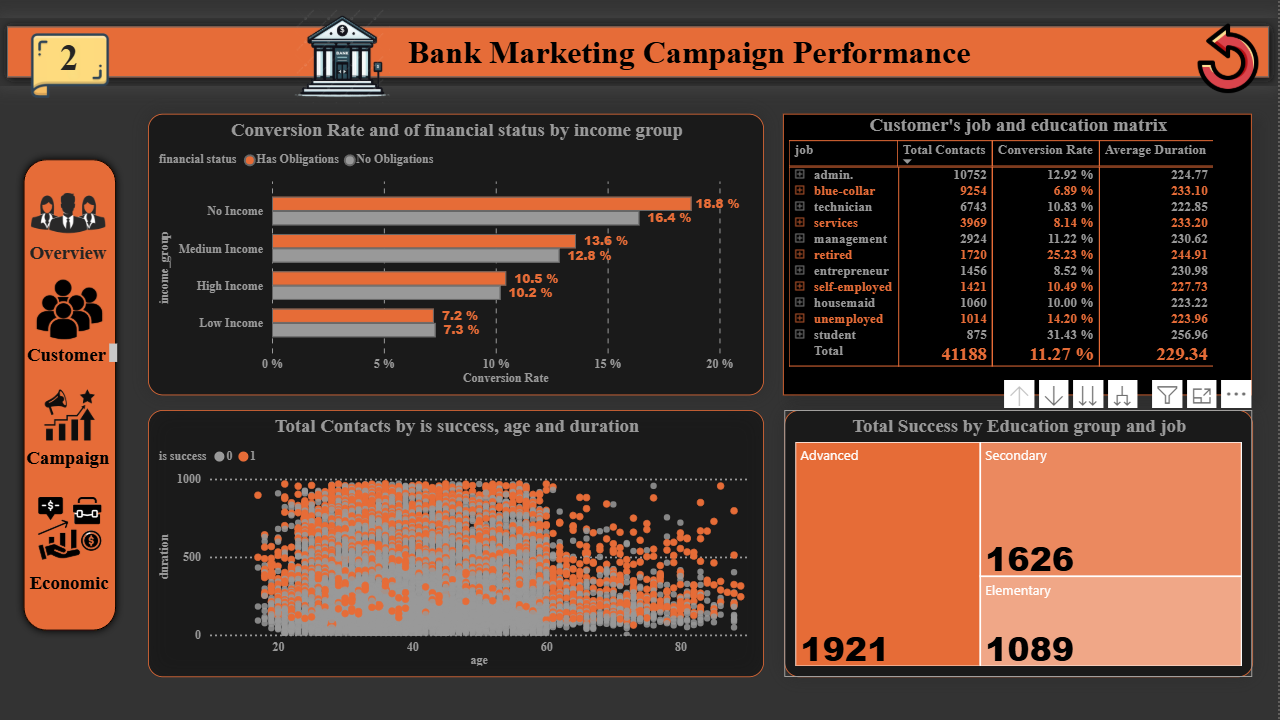

What the dashboard file says about the page in this screenshot:
{"tool":"powerbi","page":{"name":"Customer","canvas":[1280,720],"ordinal":1},"visuals":[{"type":"group","id":"g1","title":"Group 1","box":[0,0,1280,141.2],"z":0},{"type":"shape","box":[16.9,150.8,108.6,487.4],"z":0,"group":"g2"},{"type":"pivotTable","title":"Customer''s job and education matrix","fields":{"Values":["BM-Measures.Total Contacts","BM-Measures.Conversion Rate","BM-Measures.Average Duration"],"Rows":["DimCustomer.job","DimCustomer.education"]},"box":[785,113.8,468.8,281.2],"z":1000},{"type":"textbox","box":[21.4,237.2,97.1,41.4],"z":1000,"group":"g2"},{"type":"shape","box":[0,18.1,1280,68.8],"z":1500,"group":"g1"},{"type":"image","box":[0,0,143.6,141.2],"z":2000,"group":"g1"},{"type":"clusteredBarChart","title":"Conversion Rate and of financial status by income group","fields":{"Category":["DimCustomer.income_group"],"Y":["BM-Measures.Conversion Rate"],"Series":["DimCustomer.financial_status"]},"box":[150,113.8,616.2,281.2],"z":2000},{"type":"image","box":[21.7,166.5,97.7,94.1],"z":2000,"group":"g2"},{"type":"textbox","box":[35,31.4,72.4,55.5],"z":2500,"group":"g1"},{"type":"image","box":[290.8,0,106.2,109.8],"z":3000,"group":"g1"},{"type":"image","box":[7.2,265.9,127.9,85.7],"z":3000,"group":"g2"},{"type":"scatterChart","title":"Total Contacts by is success, age and duration","fields":{"X":["DimCustomer.age"],"Y":["FactBankMarketing.duration"],"Size":["BM-Measures.Total Contacts"],"Series":["FactBankMarketing.is_success"]},"box":[150,410,616.2,267.5],"z":3000},{"type":"textbox","box":[405.4,29,589.9,49.5],"z":3500,"group":"g1"},{"type":"image","box":[1179.9,19.3,100.1,79.6],"z":4000,"group":"g1"},{"type":"textbox","box":[20,338.6,104.3,30],"z":4000,"group":"g2"},{"type":"treemap","title":"Total Success by  Education group and job","fields":{"Group":["DimCustomer.edu_group","DimCustomer.job"],"Values":["BM-Measures.Total Success"]},"box":[785.7,410,468.6,267.1],"z":4000},{"type":"group","id":"g2","title":"Group 2","box":[0,150.8,143.6,487.4],"z":5000},{"type":"image","box":[0,351.6,143.6,115.8],"z":5000,"group":"g2"},{"type":"textbox","box":[15.7,441.5,107.1,35.7],"z":6000,"group":"g2"},{"type":"textbox","box":[22.9,567.2,97.1,40],"z":7000,"group":"g2"},{"type":"image","box":[33.8,490.3,76,79.6],"z":8000,"group":"g2"}]}

Visuals, with their boxes in screenshot pixels (x1, y1, x2, y2), scaled from the page's 1280x720 canvas onto the 1280x720 screenshot:
"Group 1" group: rect(0, 0, 1279, 141)
shape: rect(17, 151, 126, 638)
"Customer''s job and education matrix" pivotTable: rect(785, 114, 1254, 395)
textbox: rect(21, 237, 118, 279)
shape: rect(0, 18, 1279, 87)
image: rect(0, 0, 144, 141)
"Conversion Rate and of financial status by income group" clusteredBarChart: rect(150, 114, 766, 395)
image: rect(22, 166, 119, 261)
textbox: rect(35, 31, 107, 87)
image: rect(291, 0, 397, 110)
image: rect(7, 266, 135, 352)
"Total Contacts by is success, age and duration" scatterChart: rect(150, 410, 766, 678)
textbox: rect(405, 29, 995, 78)
image: rect(1180, 19, 1279, 99)
textbox: rect(20, 339, 124, 369)
"Total Success by  Education group and job" treemap: rect(786, 410, 1254, 677)
"Group 2" group: rect(0, 151, 144, 638)
image: rect(0, 352, 144, 467)
textbox: rect(16, 442, 123, 477)
textbox: rect(23, 567, 120, 607)
image: rect(34, 490, 110, 570)
